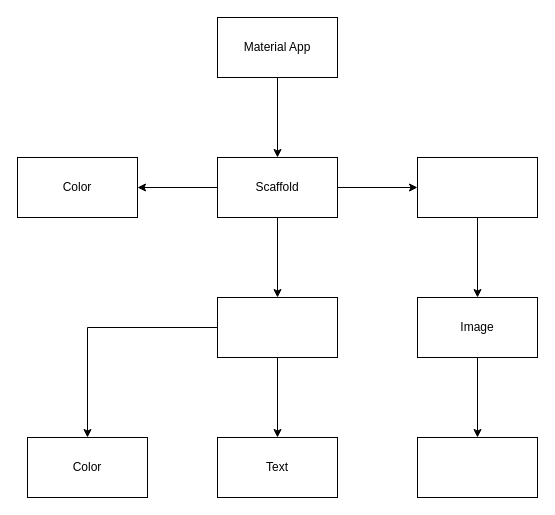
Some shapes in this 555 by 515 pixel diagram are drawn without their labels. Each missing label, with the centre of its shape:
"AppBar" belongs at (277,327).
"Center" belongs at (477,187).
"Natural Image" belongs at (477,467).
